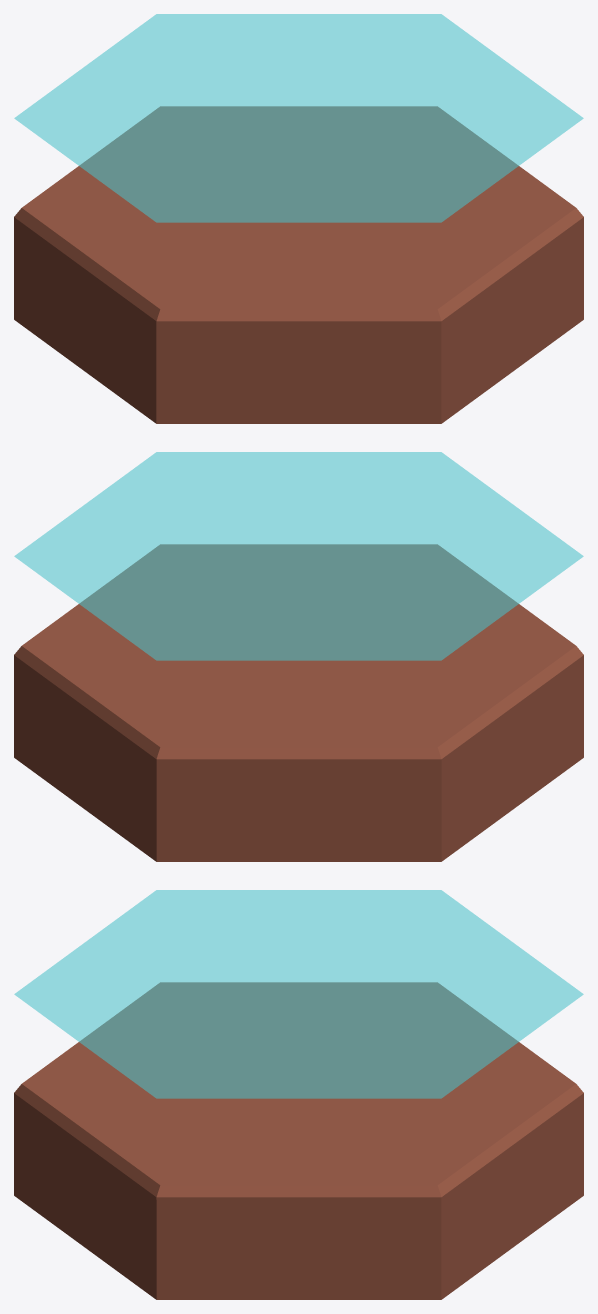
Rendered from hex_water_detail_no_faces.fbx.
3 views of the same model, one above another, from view 1: azimuth 30°, elevation 25°; view 2: azimuth 150°, elevation 25°; view 3: azimuth 270°, elevation 25° (orthographic).
Parts seen in each view (by area): view 1: hex_water_detail; view 2: hex_water_detail; view 3: hex_water_detail.
Part boxes in pixels (x1=…): hex_water_detail: x1=14, y1=14, x2=583, y2=423; hex_water_detail: x1=14, y1=452, x2=583, y2=861; hex_water_detail: x1=14, y1=890, x2=583, y2=1299.
Bounding box in the file's own units: 200 × 90 × 231.
